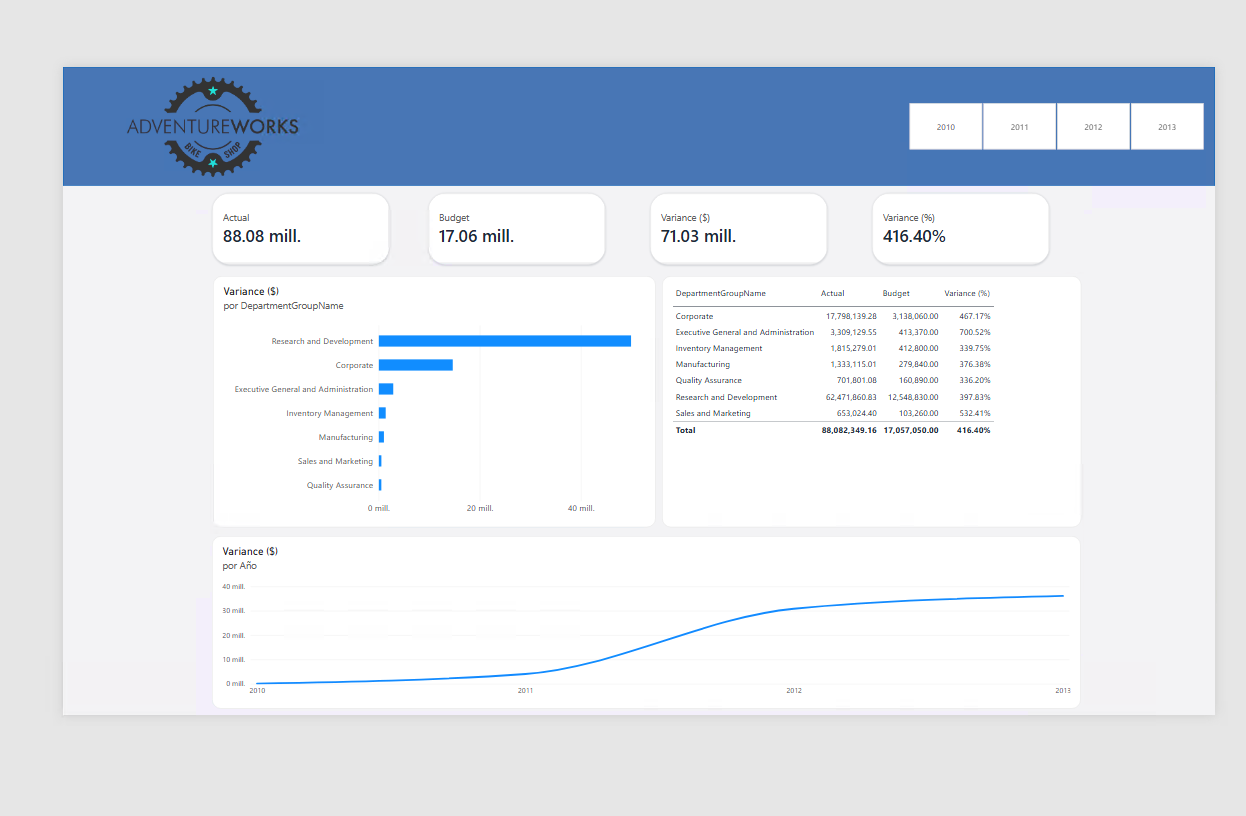

Layout of this report page (visuals, bound fields, positions):
{"tool":"powerbi","page":{"name":"Página 2","canvas":[1920,1080],"ordinal":1},"visuals":[{"type":"shape","box":[0,0,1920,198.4],"z":0},{"type":"image","box":[75.3,8,350.2,182.4],"z":1000},{"type":"cardVisual","fields":{"Data":["Medidas.Actual"]},"box":[249.1,210,296.2,118.8],"z":2000},{"type":"cardVisual","fields":{"Data":["Medidas.Budget"]},"box":[609.1,210,296.2,118.8],"z":3000},{"type":"cardVisual","fields":{"Data":["Medidas.Variance ($)"]},"box":[977.8,210,296.2,118.8],"z":4000},{"type":"cardVisual","fields":{"Data":["Medidas.Variance (%)"]},"box":[1347.8,210,296.2,118.8],"z":5000},{"type":"clusteredBarChart","fields":{"Category":["vw_DimDepartmentGroup.DepartmentGroupName"],"Y":["Medidas.Variance ($)"]},"box":[249.6,348,737.5,418.8],"z":6000},{"type":"tableEx","fields":{"Values":["vw_DimDepartmentGroup.DepartmentGroupName","Medidas.Actual","Medidas.Budget","Medidas.Variance (%)"]},"box":[998.3,348,698.8,418.8],"z":7000},{"type":"lineChart","fields":{"Category":["vw_DimDate.Date.Variation.Jerarquía de fechas.Año","vw_DimDate.Date.Variation.Jerarquía de fechas.Trimestre","vw_DimDate.Date.Variation.Jerarquía de fechas.Mes","vw_DimDate.Date.Variation.Jerarquía de fechas.Día"],"Y":["Medidas.Variance ($)"]},"box":[249,781,1448.3,288.3],"z":7001},{"type":"slicer","fields":{"Values":["vw_DimDate.Year"]},"box":[1390,58.3,530,81.4],"z":7002}]}

Visuals, with their boxes on the page's 1920x1080 design canvas (x1, y1, x2, y2). These are canvas units, not pixel positions in the 1246x816 screenshot, which may show the page scaled, cropped or inside an application window:
shape: (0, 0, 1920, 198)
image: (75, 8, 426, 190)
cardVisual - Medidas.Actual: (249, 210, 545, 329)
cardVisual - Medidas.Budget: (609, 210, 905, 329)
cardVisual - Medidas.Variance ($): (978, 210, 1274, 329)
cardVisual - Medidas.Variance (%): (1348, 210, 1644, 329)
clusteredBarChart - vw_DimDepartmentGroup.DepartmentGroupName x Medidas.Variance ($): (250, 348, 987, 767)
tableEx - vw_DimDepartmentGroup.DepartmentGroupName x Medidas.Actual: (998, 348, 1697, 767)
lineChart - vw_DimDate.Date.Variation.Jerarquía de fechas.Año x vw_DimDate.Date.Variation.Jerarquía de fechas.Trimestre: (249, 781, 1697, 1069)
slicer - vw_DimDate.Year: (1390, 58, 1920, 140)
